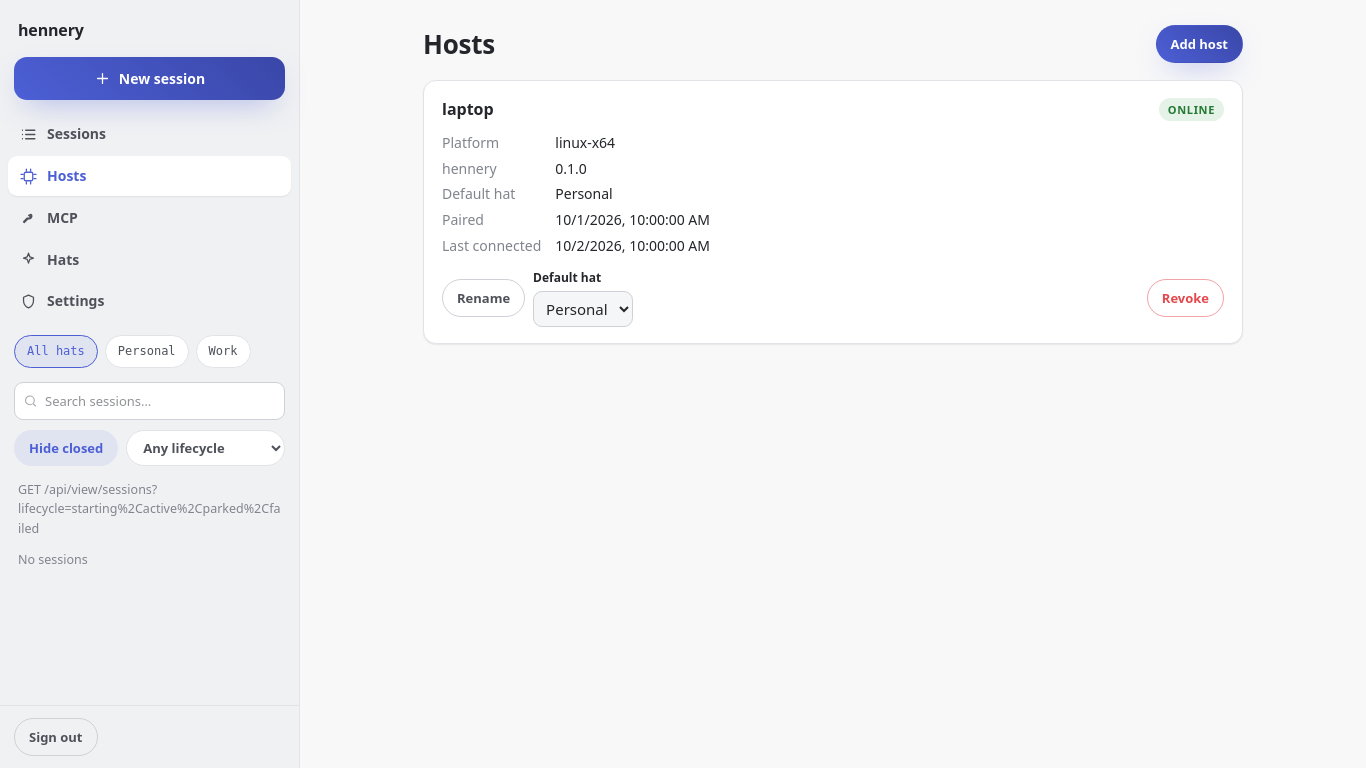
Test case: adding a host › steps up, then shows the code and the exact command with the public URL
Click the button "Add host" at {"x": 1199, "y": 44}, box [1156,25,1243,63]
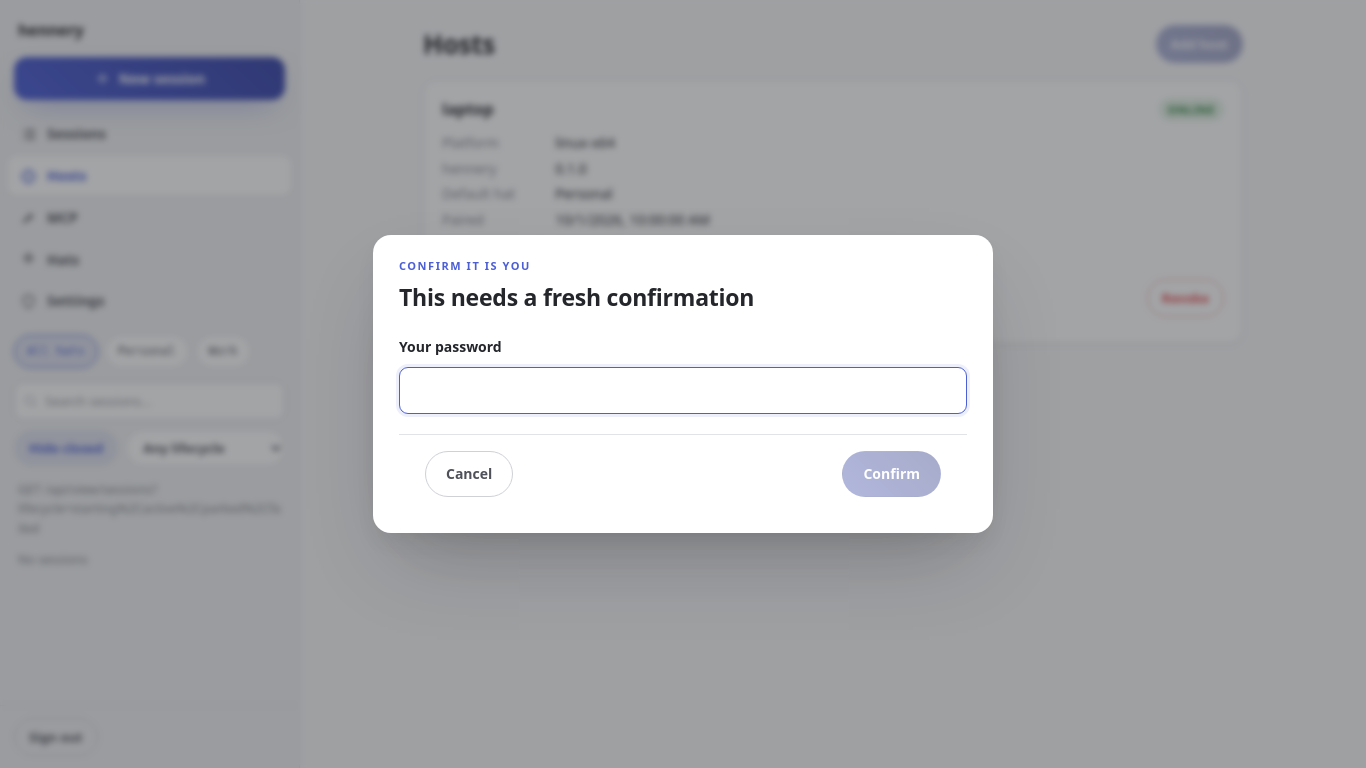
Type "correct horse battery" into the password field labelled "Your password" at {"x": 683, "y": 390}, box [399,367,967,414]
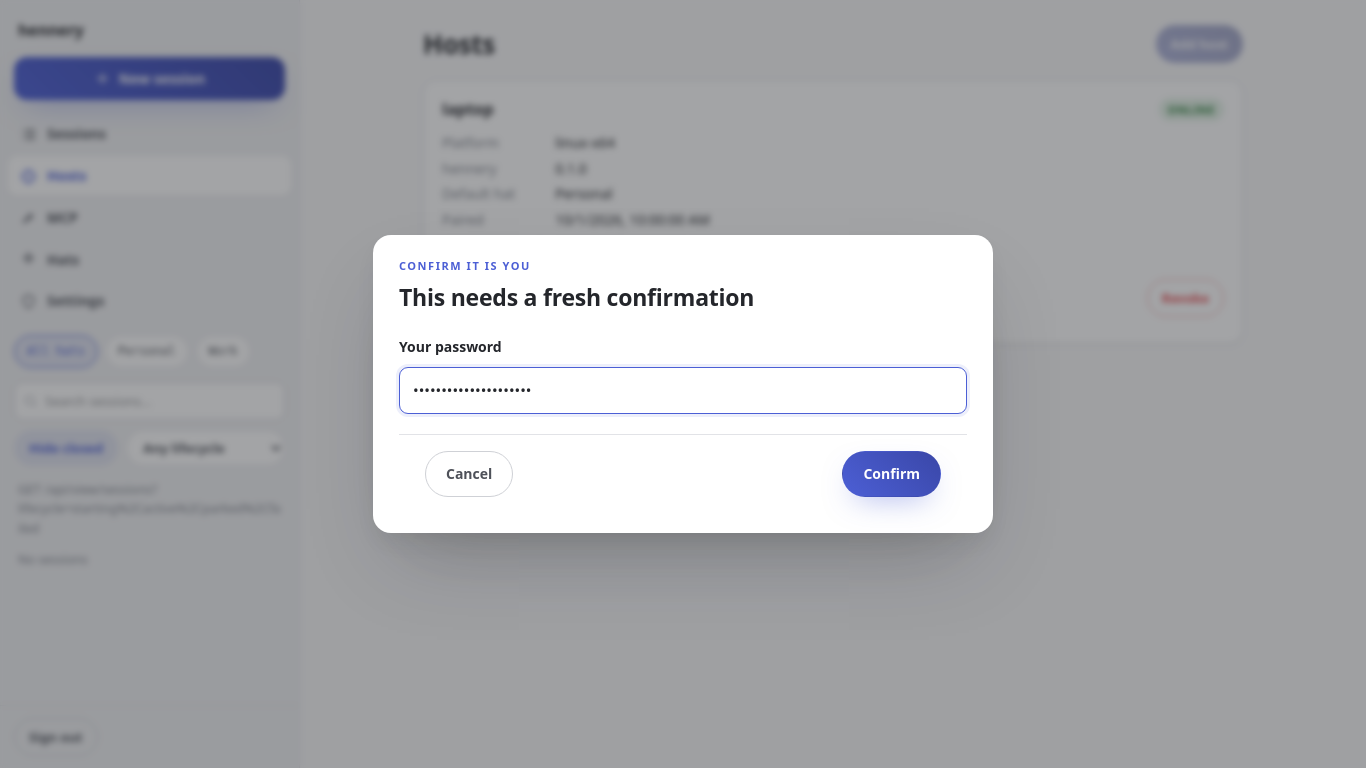
Click the button "Confirm" at {"x": 892, "y": 474}, box [842,451,941,497]
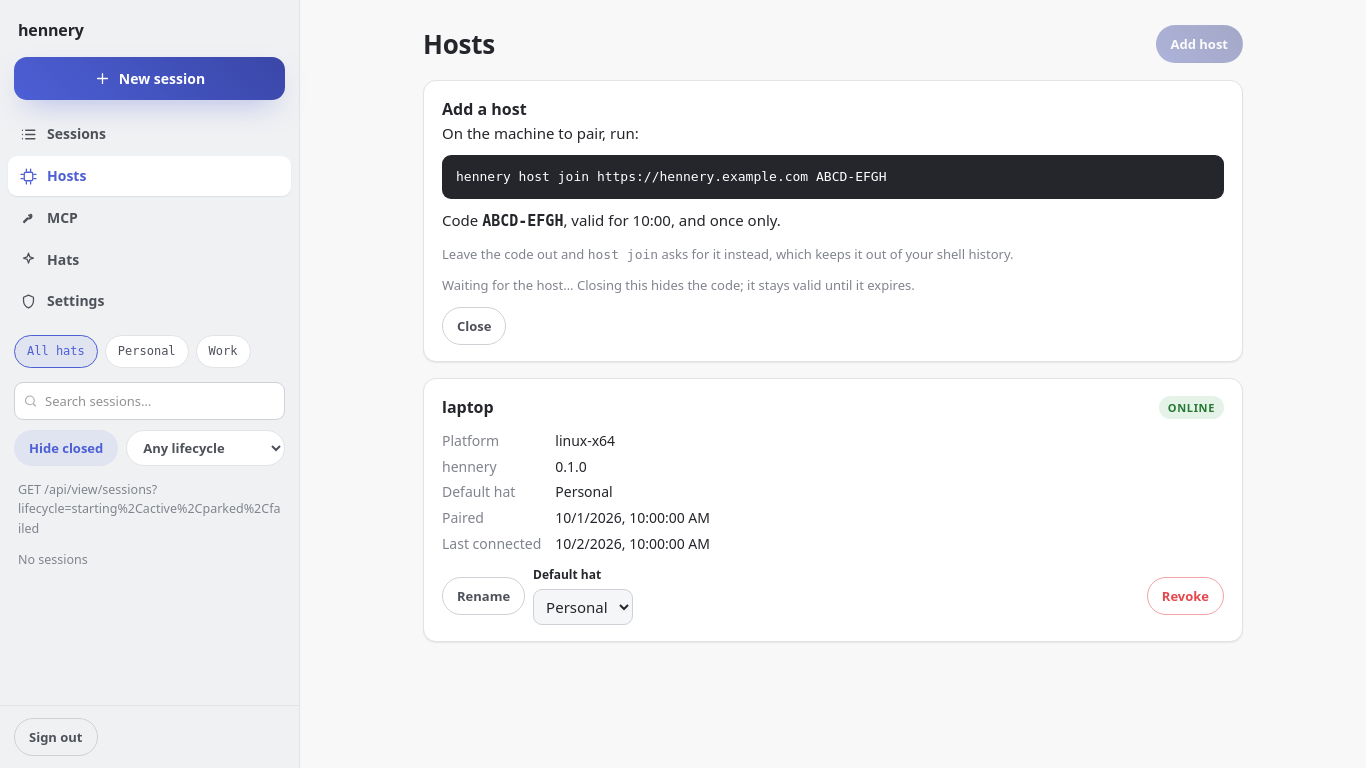
Check: the element named "Pairing command" reads "hennery host join https://hennery.example.com ABCD-EFGH", box [456,169,886,184]
Check: the element "Add a host" shows "keeps it out of your shell history", box [658,245,1014,263]
Check: the text "10:00" is shown, box [633,210,671,230]
